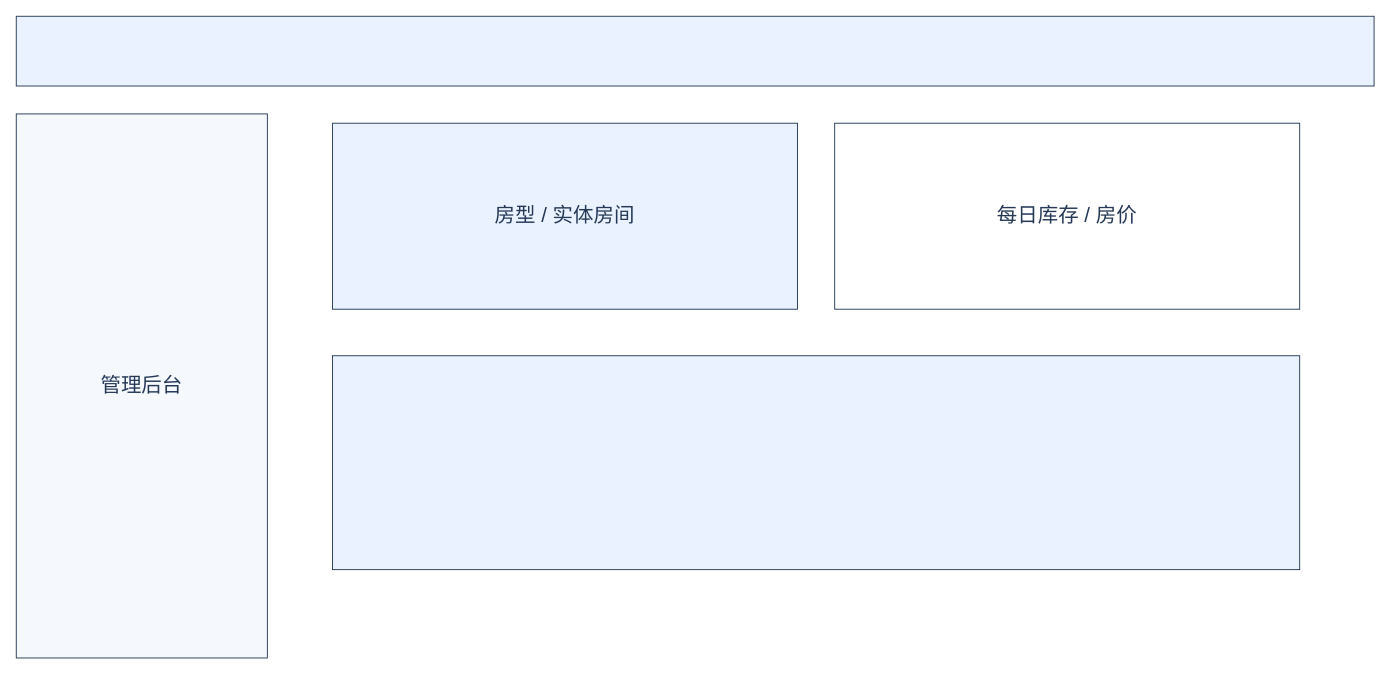
Image size: 1390x674. Some labels were removed from this diagram. Each missing label, with the centre of its shape:
"列表、编辑表单与状态提示" belongs at point 816,462.
"智慧酒店预订与运营管理系统" belongs at point 694,50.
